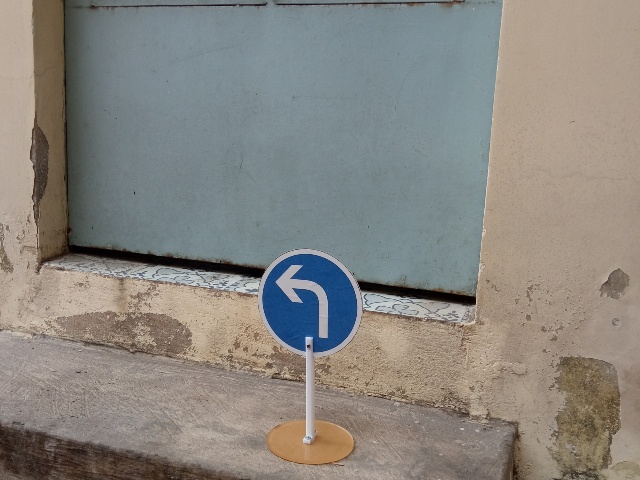Left_Sign: (258, 248, 363, 359)
